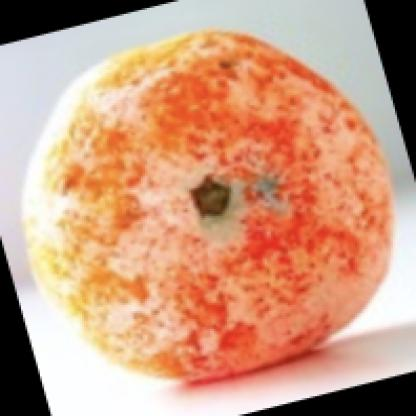rotten_orange: (20, 31, 394, 387)
